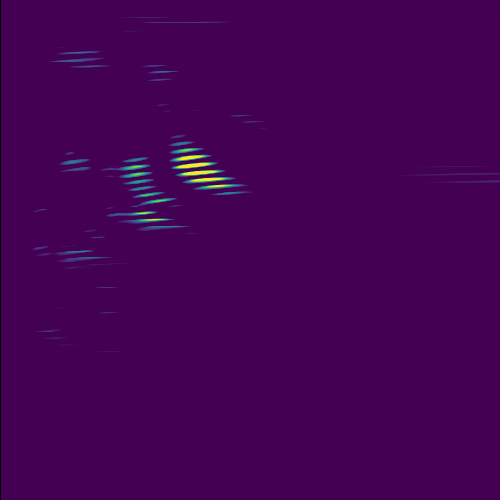semblance: (166, 140, 235, 201)
